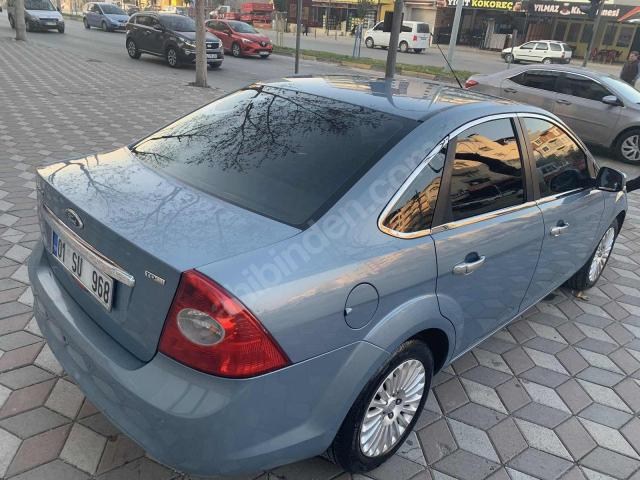plaka: (53, 232, 113, 307)
